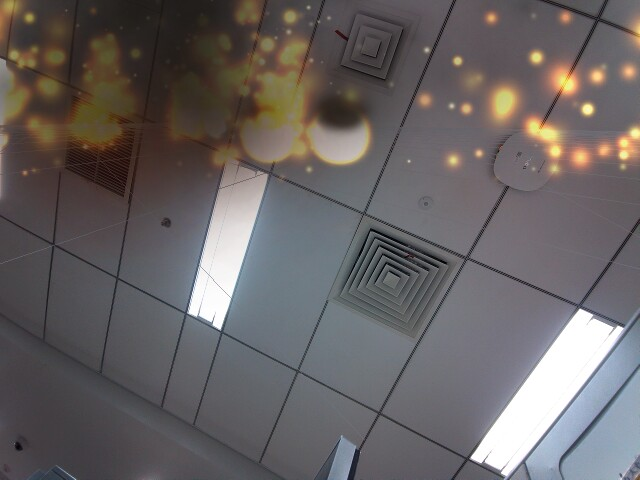fire: (309, 100, 375, 171), (237, 104, 298, 164)
